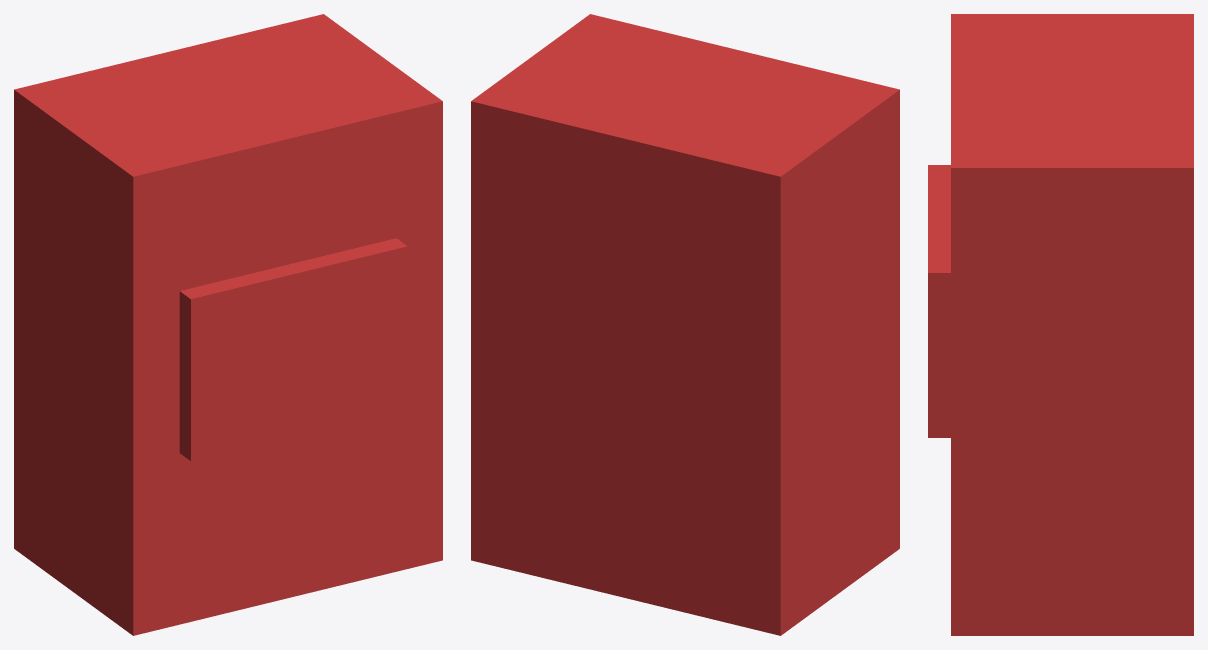
File: g_chips_bag.glb
3 views of the same model, side by side, from view 1: azimuth 30°, elevation 25°; view 2: azimuth 150°, elevation 25°; view 3: azimuth 270°, elevation 25° (orthographic).
Visible parts, largest first — view 1: g_chips_bag; view 2: g_chips_bag; view 3: g_chips_bag.
Part boxes in pixels (x1=…): g_chips_bag: x1=14, y1=14, x2=442, y2=635; g_chips_bag: x1=471, y1=14, x2=899, y2=635; g_chips_bag: x1=928, y1=14, x2=1193, y2=635.
Bounding box in the file's own units: 0.24 × 0.34 × 0.175.
